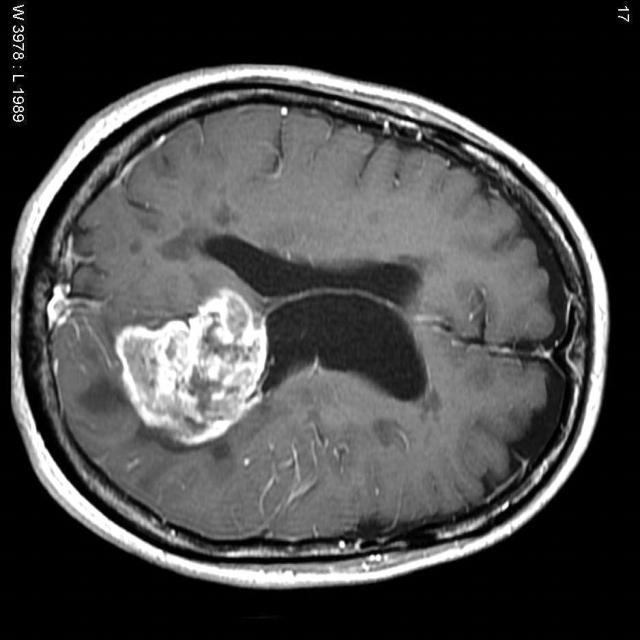tumor: (116, 289, 272, 445)
